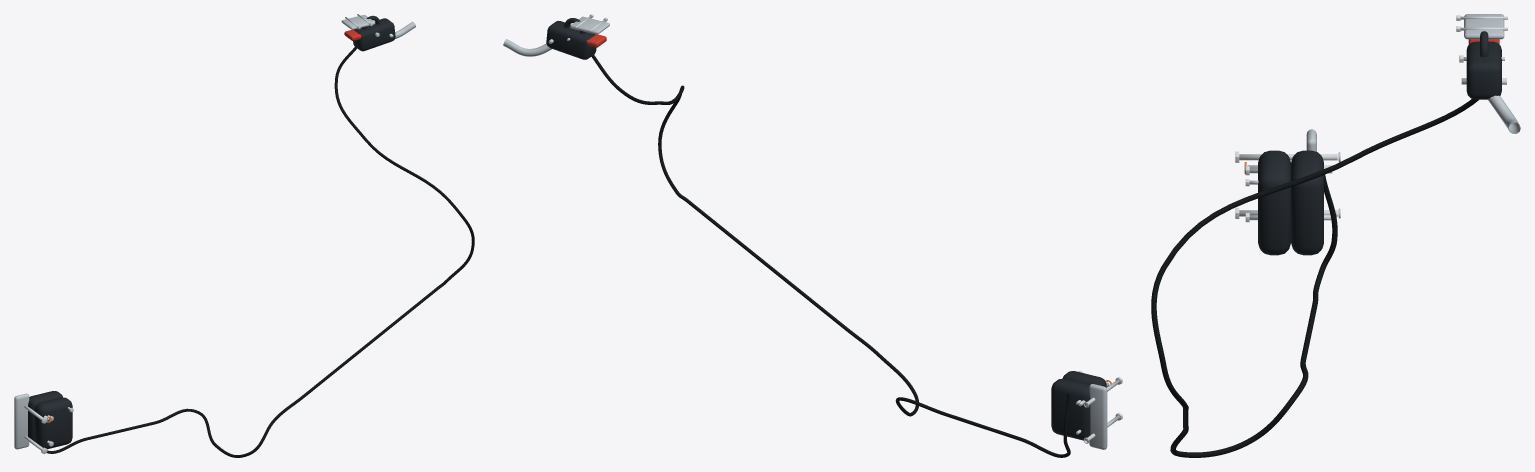
Rendered from brake_rear_LOD0.fbx.
The picture shows the model from 3 angles, left to right: view 1: azimuth 30°, elevation 25°; view 2: azimuth 150°, elevation 25°; view 3: azimuth 270°, elevation 25°; orthographic projection. The views are drawn at different scales.
Parts seen in each view (by area): view 1: MM_brake_rear_hose, MM_brake_rear_caliper_half_1, MM_brake_rear_lever_body, MM_brake_rear_mount_adapter, MM_brake_rear_caliper_half_2; view 2: MM_brake_rear_hose, MM_brake_rear_caliper_half_2, MM_brake_rear_lever_body, MM_brake_rear_mount_adapter; view 3: MM_brake_rear_hose, MM_brake_rear_caliper_half_2, MM_brake_rear_caliper_half_1, MM_brake_rear_lever_body, MM_brake_rear_reservoir_cap, MM_brake_rear_lever_blade.
Boxes of the visible parts, <box> form: MM_brake_rear_hose: <box>47,46,474,457</box>; MM_brake_rear_caliper_half_1: <box>34,397,72,449</box>; MM_brake_rear_lever_body: <box>353,18,395,51</box>; MM_brake_rear_mount_adapter: <box>14,393,29,449</box>; MM_brake_rear_caliper_half_2: <box>28,391,62,441</box>; MM_brake_rear_hose: <box>591,53,1070,457</box>; MM_brake_rear_caliper_half_2: <box>1051,378,1090,440</box>; MM_brake_rear_lever_body: <box>546,20,596,59</box>; MM_brake_rear_mount_adapter: <box>1089,384,1107,449</box>; MM_brake_rear_hose: <box>1151,99,1478,457</box>; MM_brake_rear_caliper_half_2: <box>1291,150,1323,255</box>; MM_brake_rear_caliper_half_1: <box>1258,150,1290,255</box>; MM_brake_rear_lever_body: <box>1466,41,1501,99</box>; MM_brake_rear_reservoir_cap: <box>1464,14,1504,39</box>; MM_brake_rear_lever_blade: <box>1488,95,1520,133</box>.
Size of the model in its own units: 0.9416 by 0.6601 by 0.3577.
